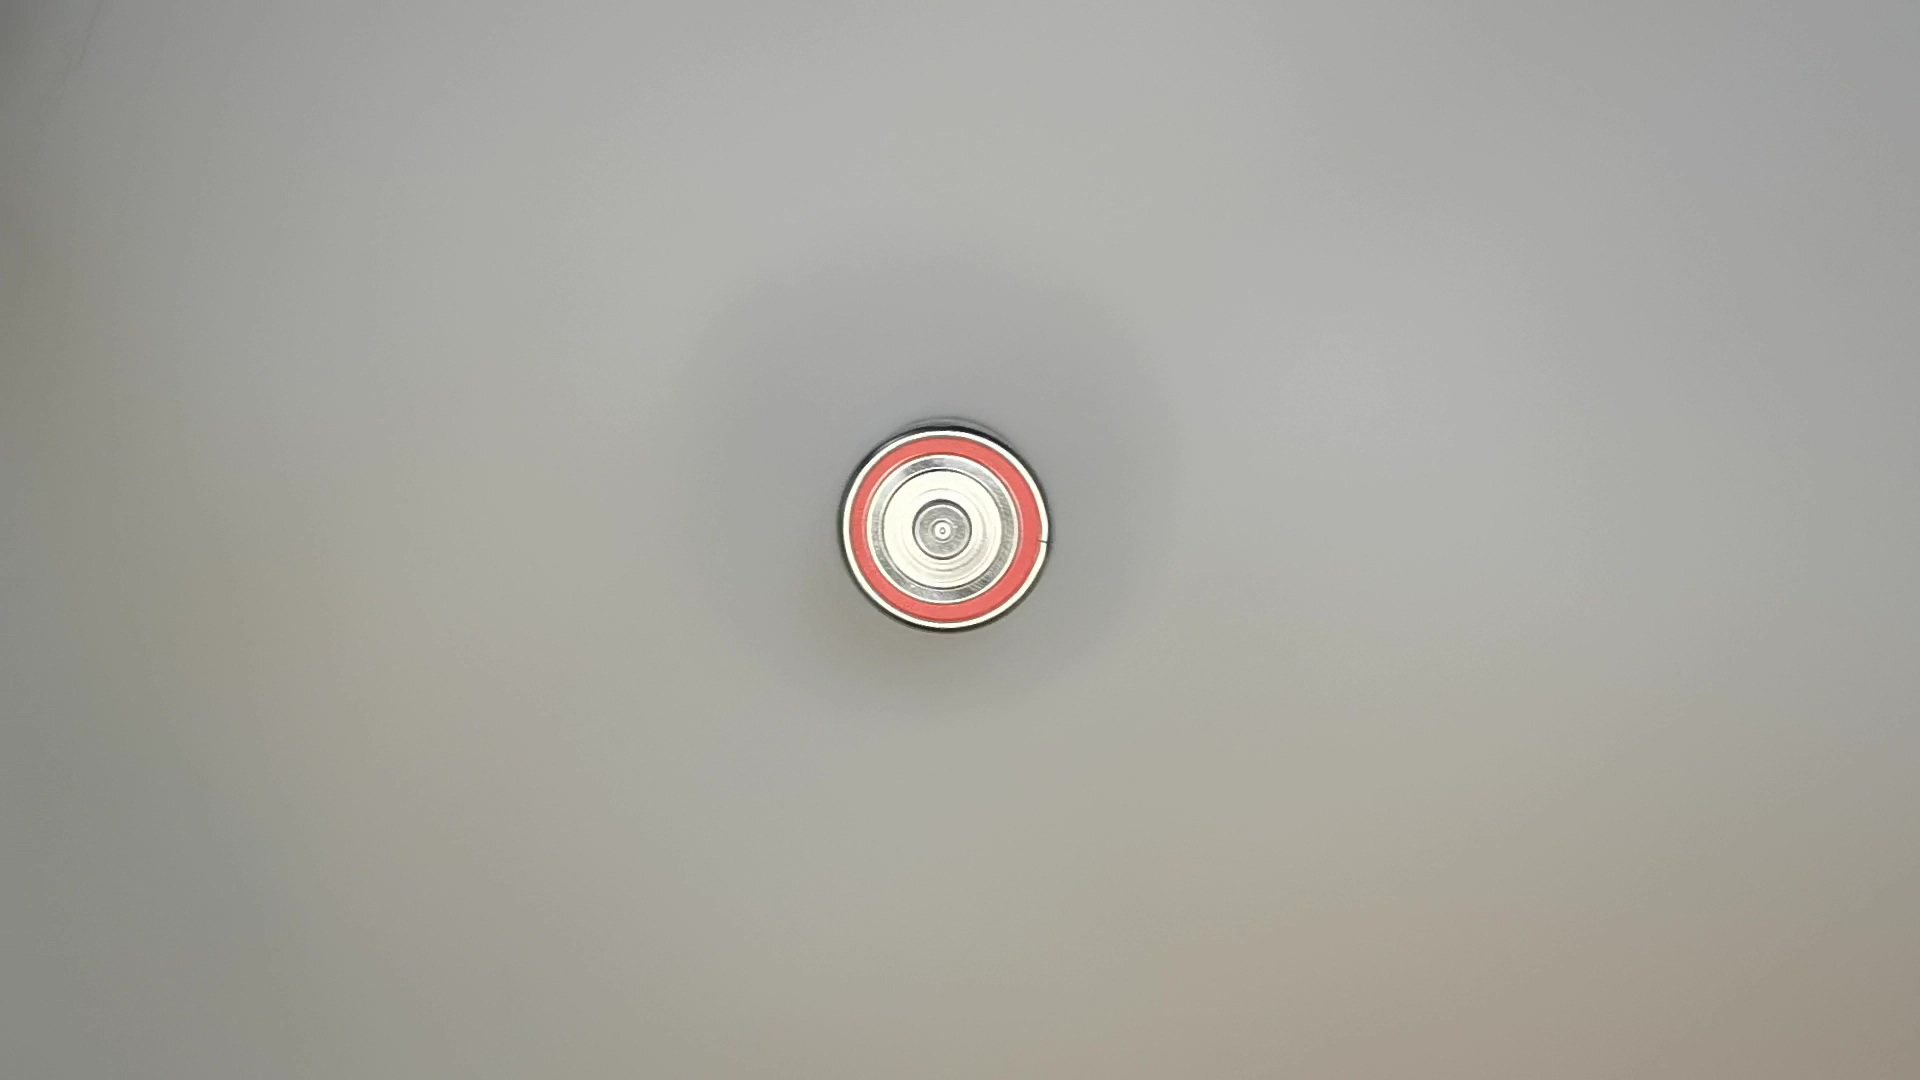battery: (828, 411, 1058, 641)
